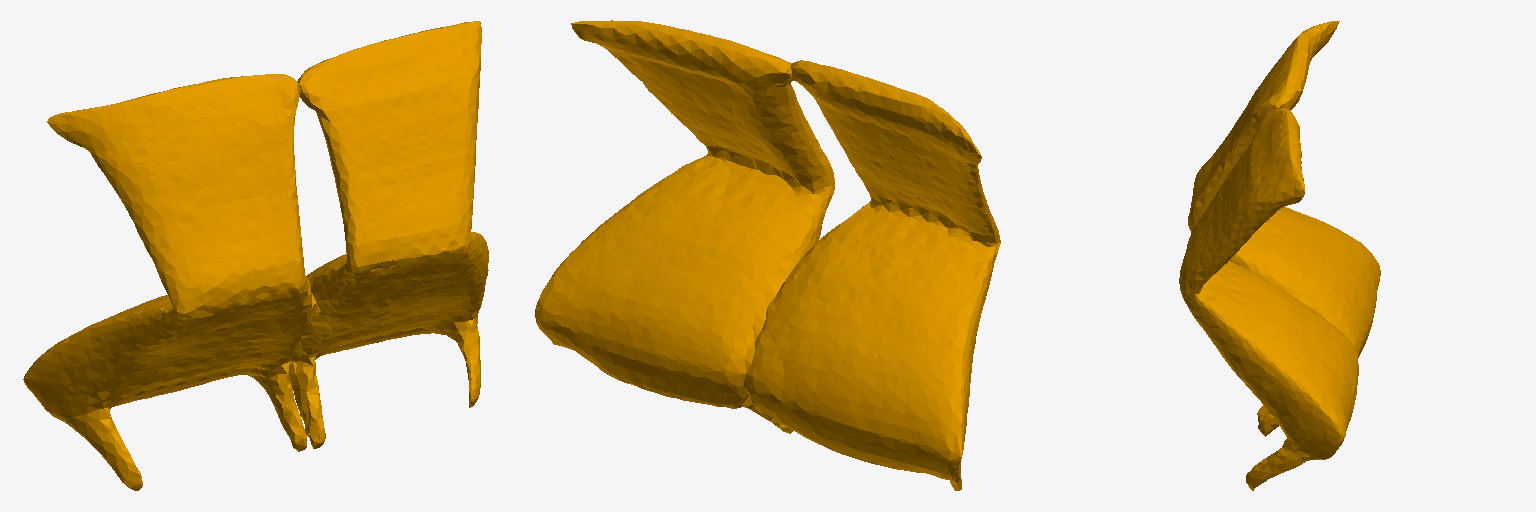
robot.urdf — model_1778239897:
<?xml version="1.0" ?>
<robot name="model_1778239897">
  <link name="base_link">
    <inertial>
      <origin xyz="0.014503160335783485 -0.0789570960868845 1.2341472185238305" rpy="0 0 0"/>
      <mass value="1.7303184517184682"/>
      <inertia ixx="0.7262596961931165" ixy="-0.008337856283997294" ixz="-0.059855125761932734" iyy="1.0799973238513523" iyz="-0.15541535517367824" izz="1.5152488763134109"/>
    </inertial>
    <visual>
      <origin xyz="0 0 1.2796330153942108" rpy="0 0 0"/>
      <geometry>
        <mesh filename="visual.obj" scale="3.0 3.0 3.0"/>
      </geometry>
    </visual>
    <collision>
      <origin xyz="0 0 1.2796330153942108" rpy="0 0 0"/>
      <geometry>
        <mesh filename="collision.obj" scale="3.0 3.0 3.0"/>
      </geometry>
    </collision>
  </link>
</robot>

--- What the picture shows (computed from the rendered views, not written in the file) ---
The picture shows the robot from 3 angles, left to right: view 1: azimuth 30°, elevation 25°; view 2: azimuth 150°, elevation 25°; view 3: azimuth 270°, elevation 25°; orthographic projection.
Model model_1778239897 with 1 links and 0 joints (none), rooted at base_link, posed every joint at zero.
Links seen in each view (by area): view 1: base_link; view 2: base_link; view 3: base_link.
Link boxes in pixels (<box>): base_link: <box>23,21,488,490</box>; base_link: <box>535,20,1000,490</box>; base_link: <box>1179,21,1380,490</box>.
Size in the robot's own frame: 3 by 1.36 by 2.56 metres.
Meshes: 1 distinct files referenced, 1 mesh visuals loaded (1 OBJ).
